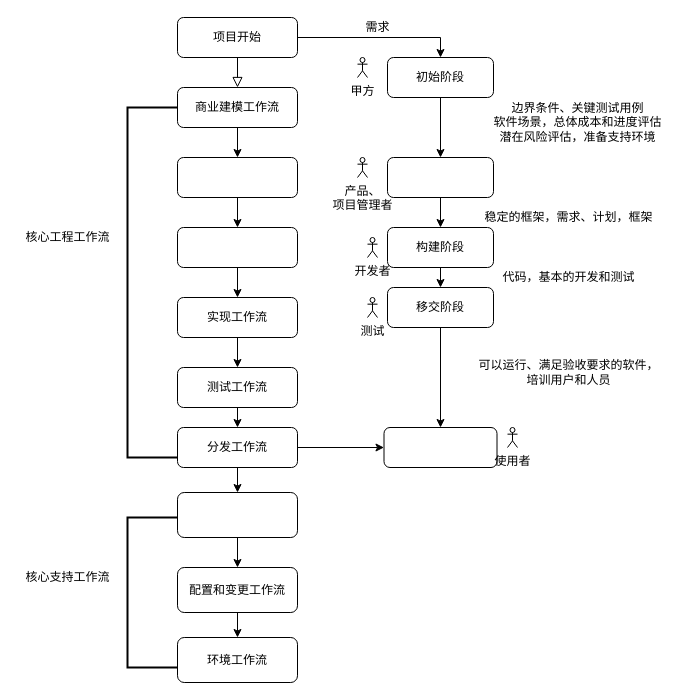
This 685x700 diagram has some shape labels left out. The centre of each missing label's shape, as x and y in pixels:
分析和设计工作流: the point at 237,247
细化阶段: the point at 440,177
需求工作流: the point at 237,177
项目上线: the point at 440,447
项目管理工作流: the point at 237,515
